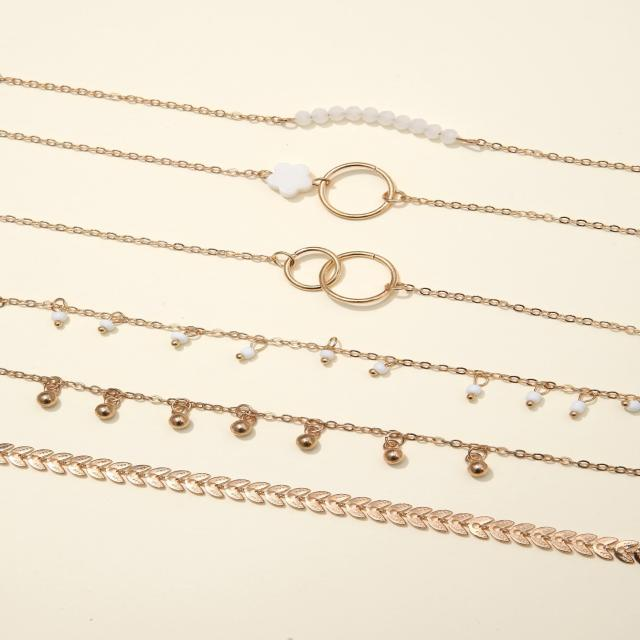bracelet: (0, 41, 640, 621)
